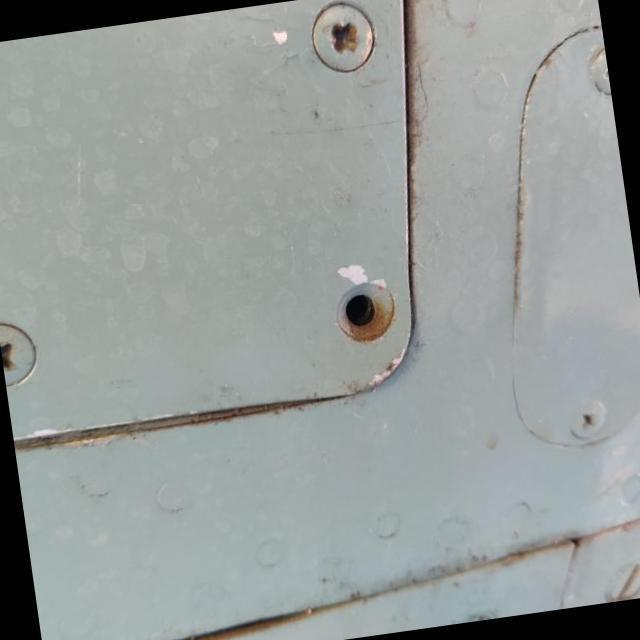Missing Fastener: (333, 280, 397, 346)
